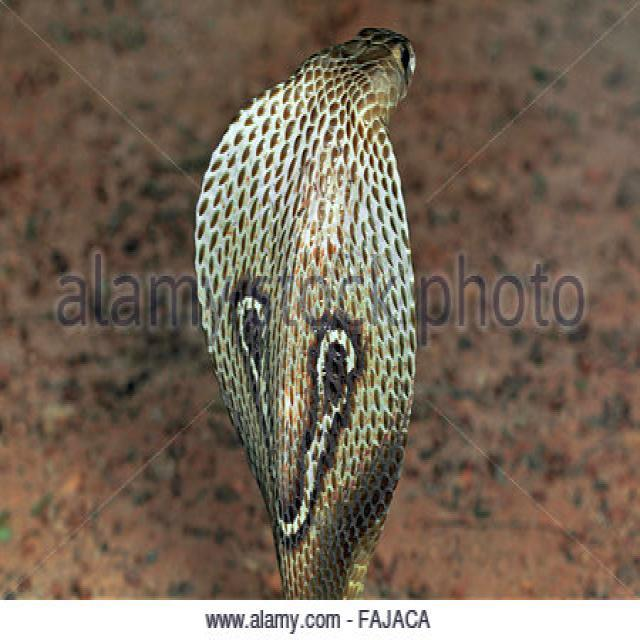Snake: (192, 22, 418, 598)
